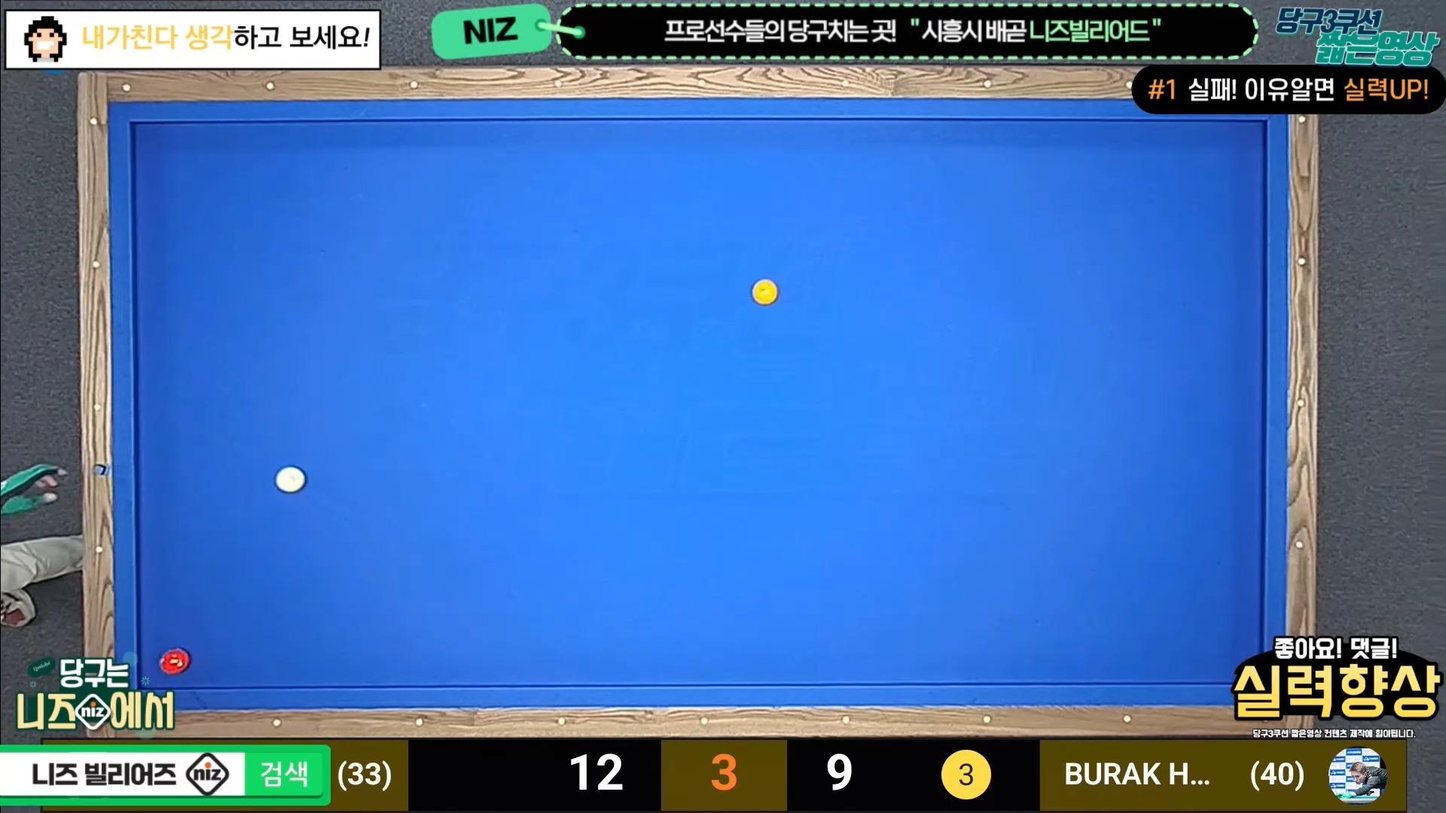-billiard-ball: (274, 465, 306, 494), (750, 278, 778, 306)
Red: (158, 651, 193, 677)
White: (270, 465, 307, 493)
Yellow: (752, 277, 784, 305)
